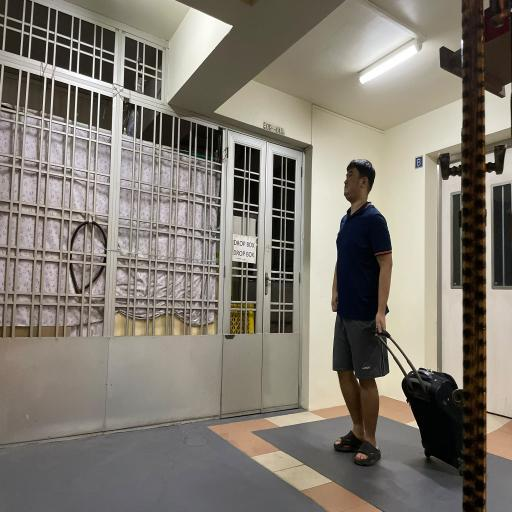person_left: (322, 144, 462, 490)
